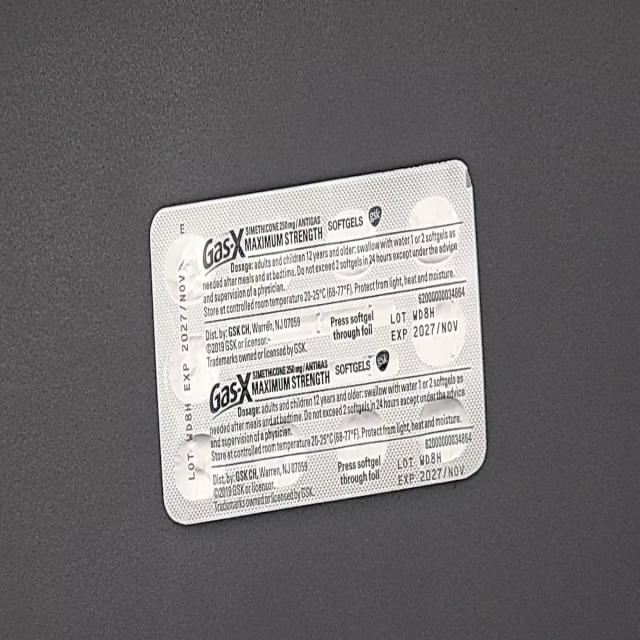no defect: (9, 19, 33, 67)
